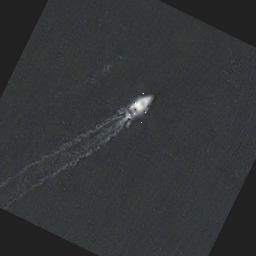boat: (122, 86, 155, 124)
